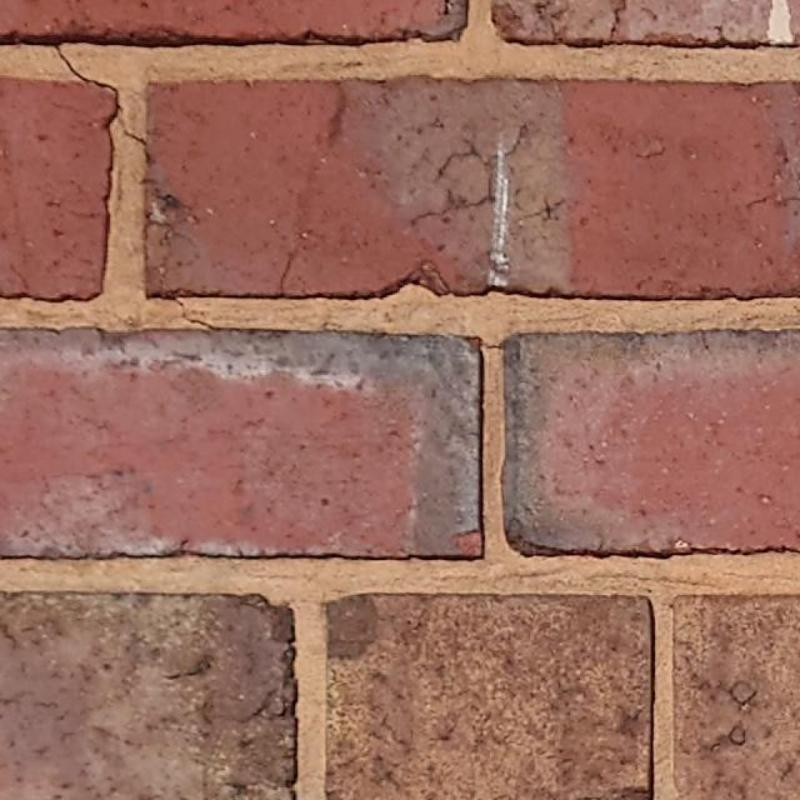pothole: (54, 45, 122, 111), (122, 131, 150, 164), (182, 312, 219, 329), (146, 296, 184, 307), (484, 344, 505, 351)
